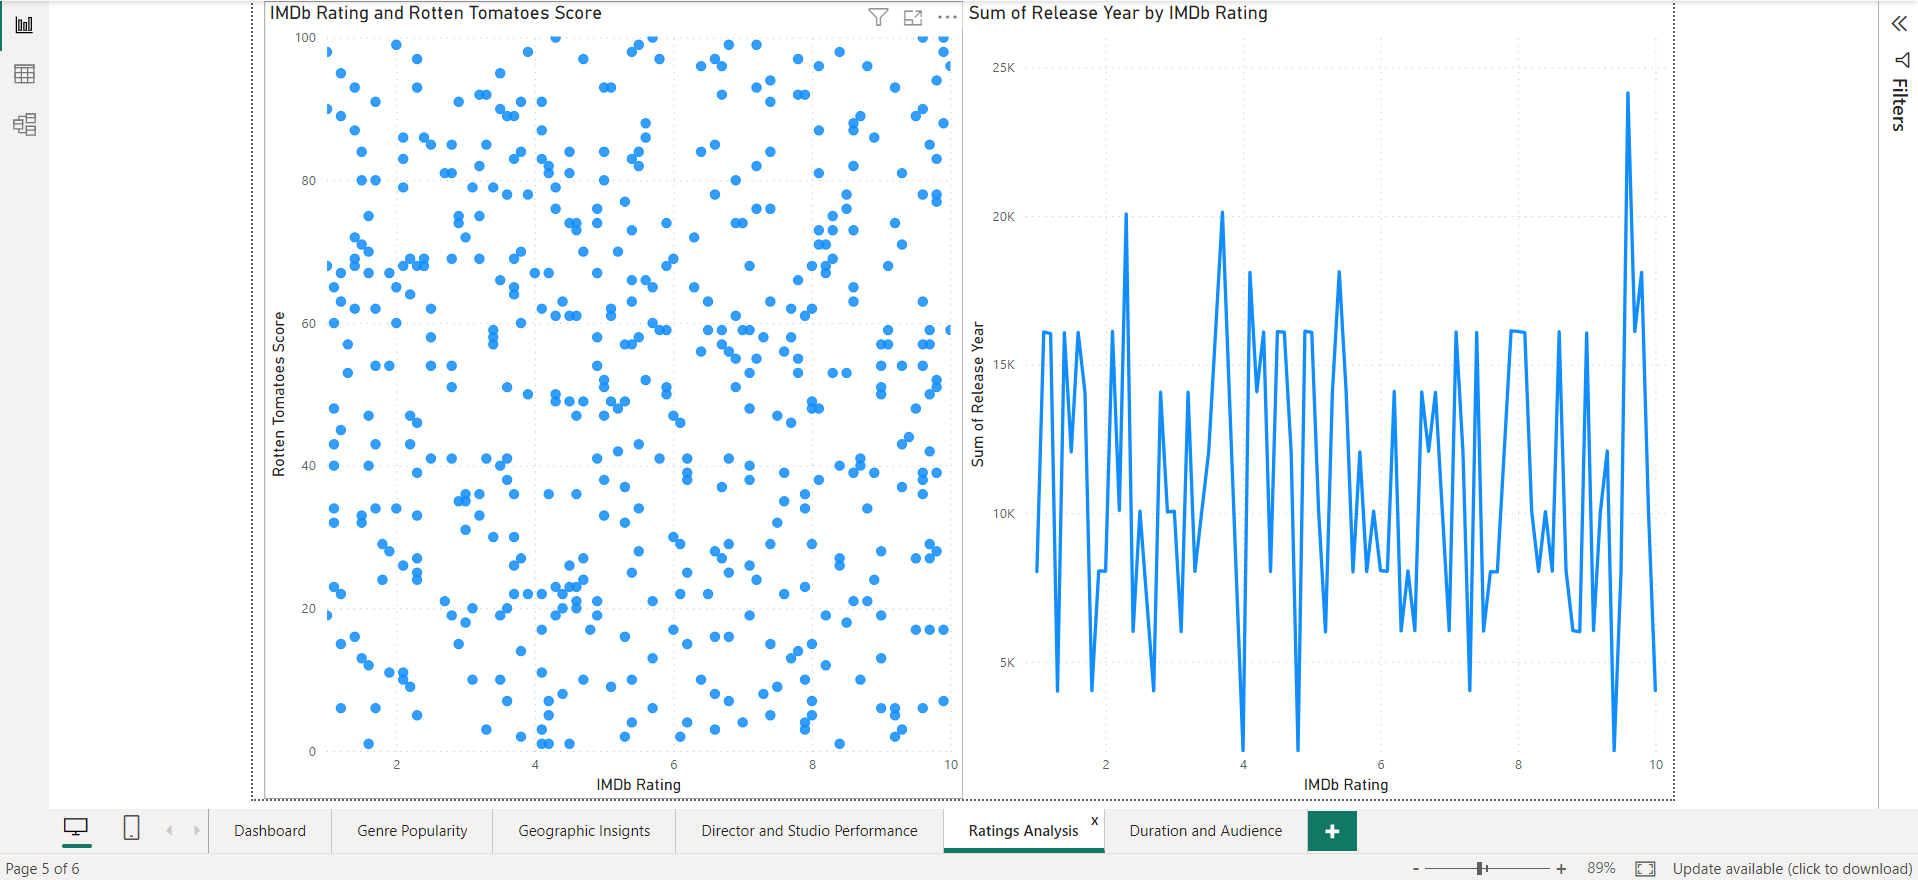

This screenshot's page, from the dashboard's own definition file:
{"tool":"powerbi","page":{"name":"Ratings Analysis","canvas":[1280,720],"ordinal":4},"visuals":[{"type":"scatterChart","fields":{"X":["global_movie_dataset.IMDb Rating"],"Y":["global_movie_dataset.Rotten Tomatoes Score"]},"box":[9.8,0,630.8,720],"z":0},{"type":"lineChart","fields":{"Category":["global_movie_dataset.IMDb Rating"],"Y":["Sum(global_movie_dataset.Release Year)"]},"box":[640.5,0,639.3,720],"z":1000}]}

Visuals, with their boxes on the page's 1280x720 design canvas (x1, y1, x2, y2). These are canvas units, not pixel positions in the 1918x880 screenshot, which may show the page scaled, cropped or inside an application window:
scatterChart - global_movie_dataset.IMDb Rating x global_movie_dataset.Rotten Tomatoes Score: [left=10, top=0, right=641, bottom=720]
lineChart - global_movie_dataset.IMDb Rating x Sum(global_movie_dataset.Release Year): [left=640, top=0, right=1280, bottom=720]
